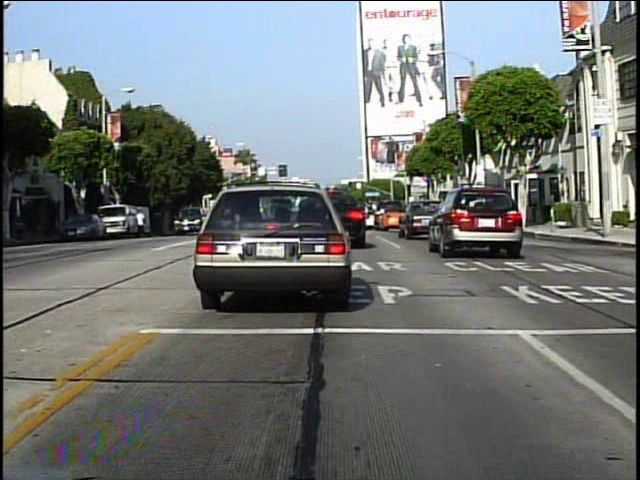person: (134, 206, 148, 240)
